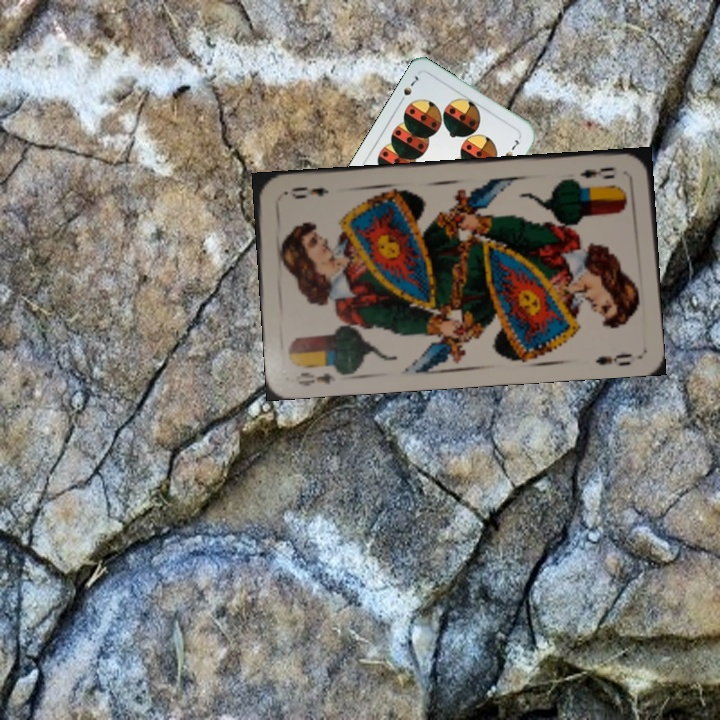EO: (291, 368, 338, 389), (576, 163, 619, 182)
S7: (395, 71, 421, 107)
